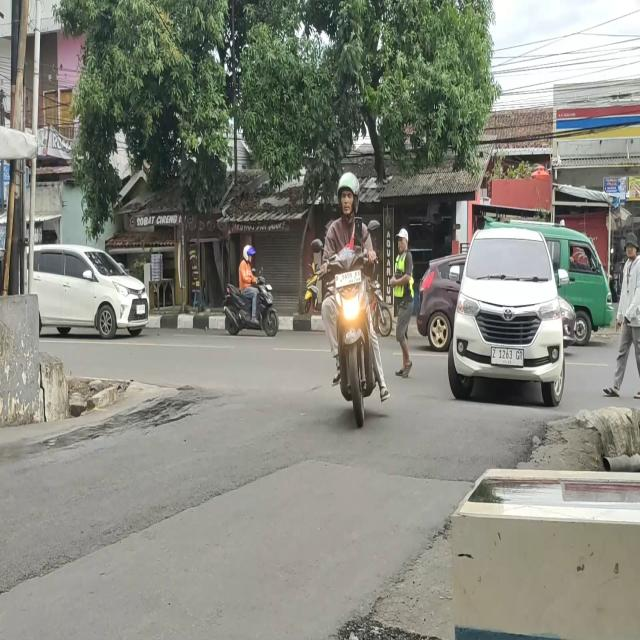helmet: (335, 172, 362, 221), (241, 241, 256, 263)
